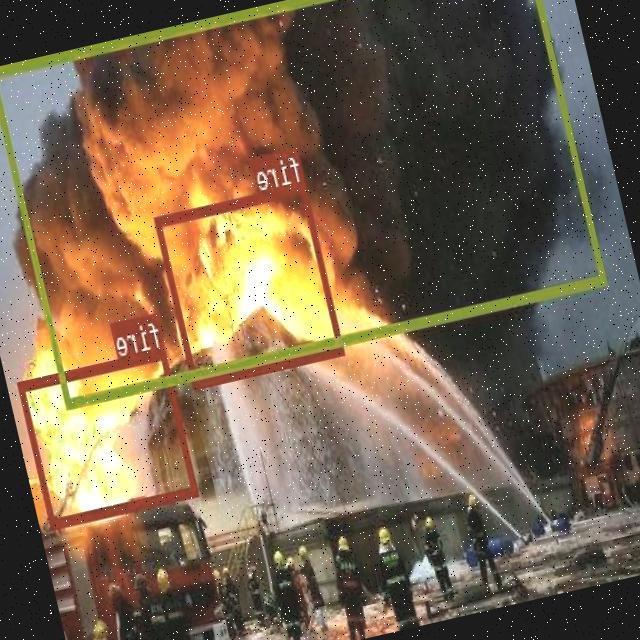fire: (155, 182, 345, 386), (18, 346, 200, 527)
smoke: (0, 0, 609, 407)
